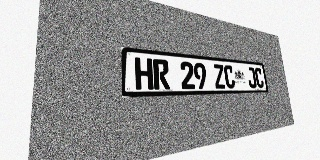2: (180, 61, 195, 89)
9: (193, 62, 207, 89)
C: (223, 65, 235, 88), (254, 67, 264, 88)
H: (135, 57, 153, 90)
J: (246, 67, 257, 88)
R: (153, 59, 170, 90)
Z: (213, 64, 226, 89)
